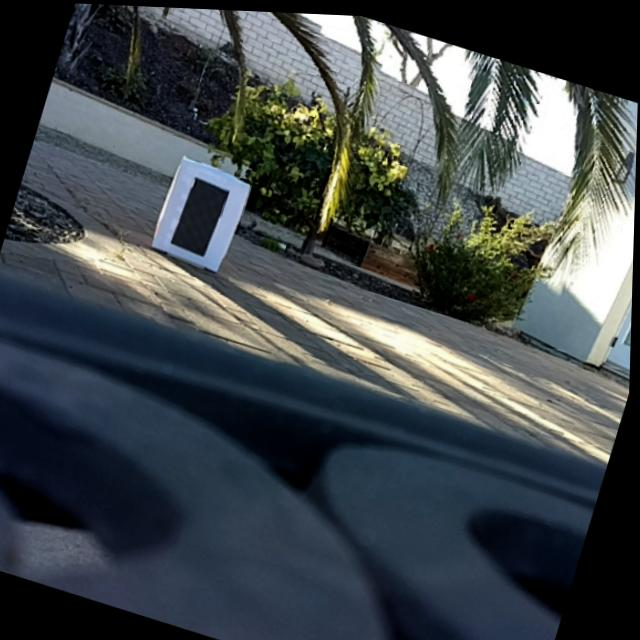led: (172, 174, 228, 256)
